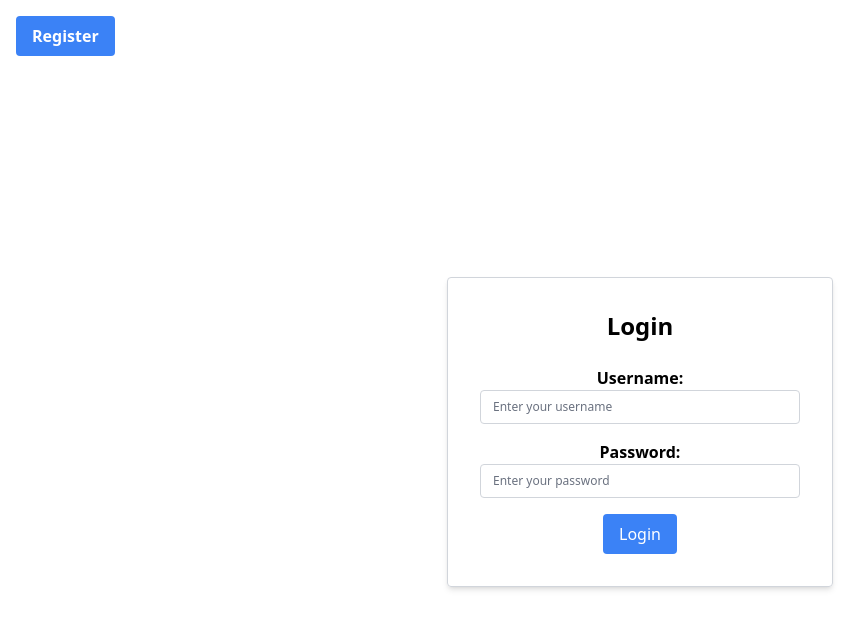
Test: LoginScreen › displays an error message when form is submitted with empty fields
This screenshot has width=851, height=628.
Click the button "Login" at (640,534), box [603, 514, 677, 554]
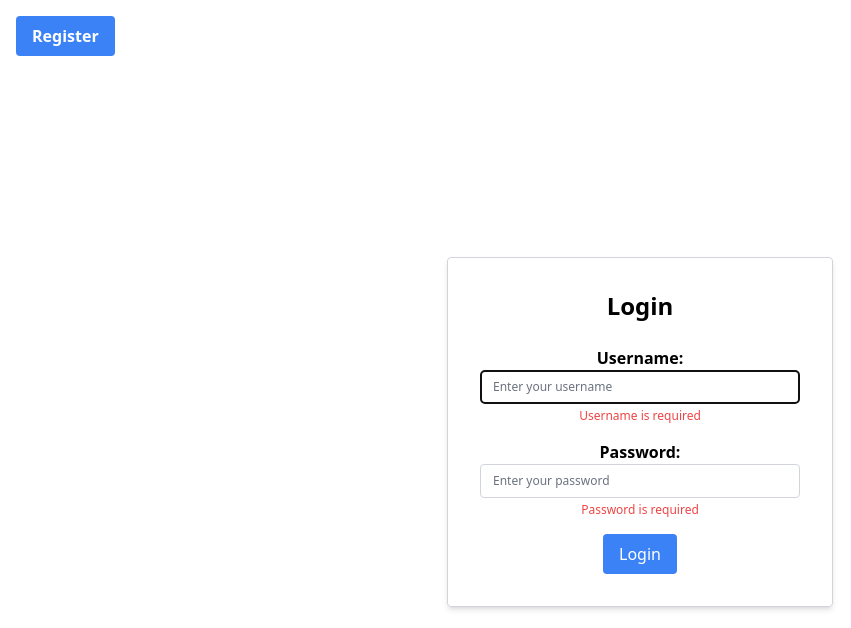
Check: the text "Password is required" is shown, box [581, 501, 699, 518]
Check: the text "Username is required" is shown, box [579, 407, 701, 424]
